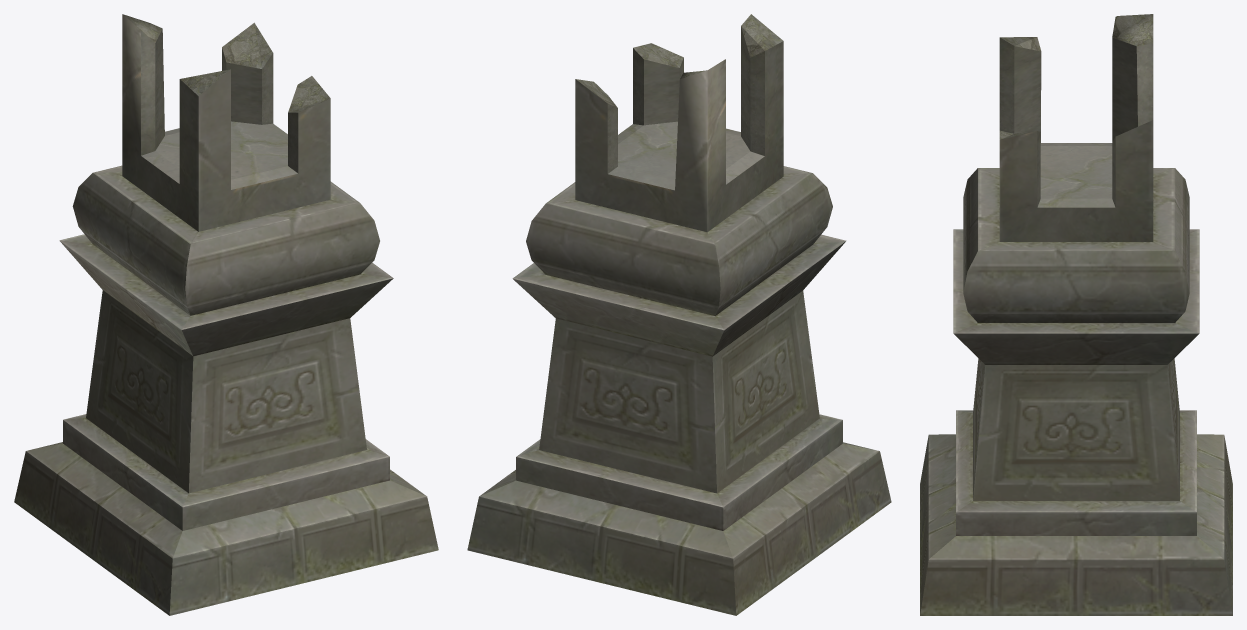
File: wlf_wujian10_jgc.FBX
3 renders of one model, left to right at view 1: azimuth 30°, elevation 25°; view 2: azimuth 150°, elevation 25°; view 3: azimuth 270°, elevation 25°, orthographic.
Parts seen in each view (by area): view 1: wlf_wujian10_jgc; view 2: wlf_wujian10_jgc; view 3: wlf_wujian10_jgc.
Part boxes in pixels (left/top/right/bottom): wlf_wujian10_jgc: left=14, top=14, right=438, bottom=615; wlf_wujian10_jgc: left=467, top=14, right=891, bottom=615; wlf_wujian10_jgc: left=920, top=14, right=1232, bottom=615.
Size of the model in its own units: 6.72 by 11.94 by 6.72.
